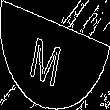M_N: (36, 24, 74, 86)
